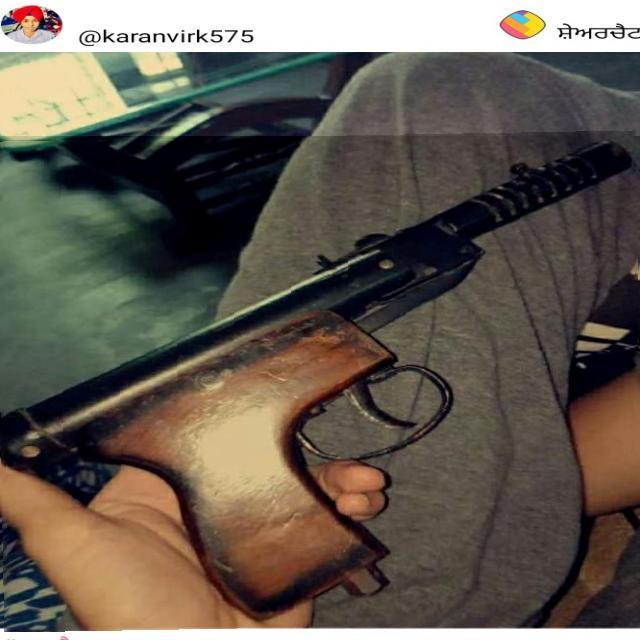handgun: (0, 133, 640, 629)
